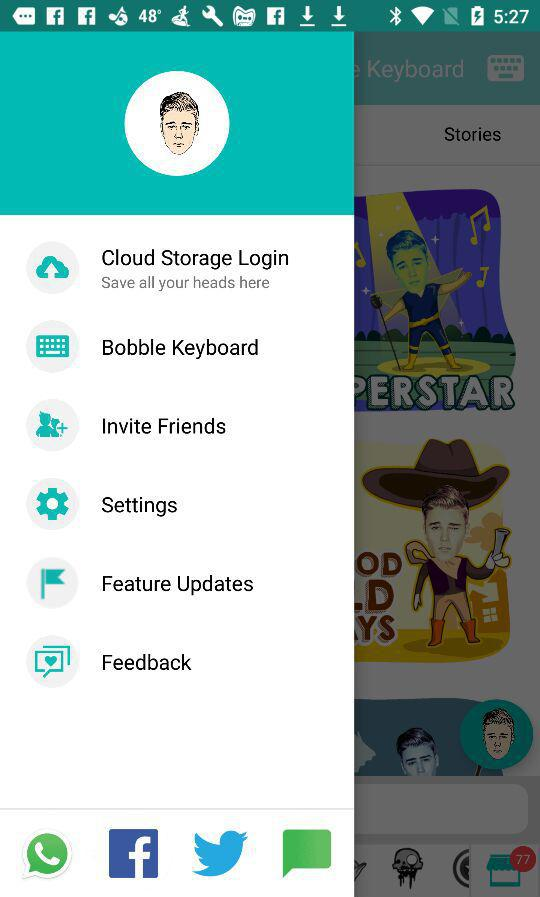Drawer: (1, 33, 355, 897)
Icon: (26, 634, 81, 690), (26, 240, 80, 295), (26, 477, 80, 530), (192, 830, 250, 877), (109, 828, 160, 878), (283, 829, 332, 878)
Image: (124, 71, 231, 178), (25, 398, 80, 454), (25, 319, 81, 374), (26, 556, 80, 609), (20, 828, 73, 880)
Text: (100, 247, 290, 271), (101, 337, 260, 361), (101, 574, 254, 597), (101, 276, 270, 294), (101, 416, 227, 437), (101, 652, 193, 673), (101, 495, 179, 519)
UpperTaskBar: (1, 1, 540, 33)
